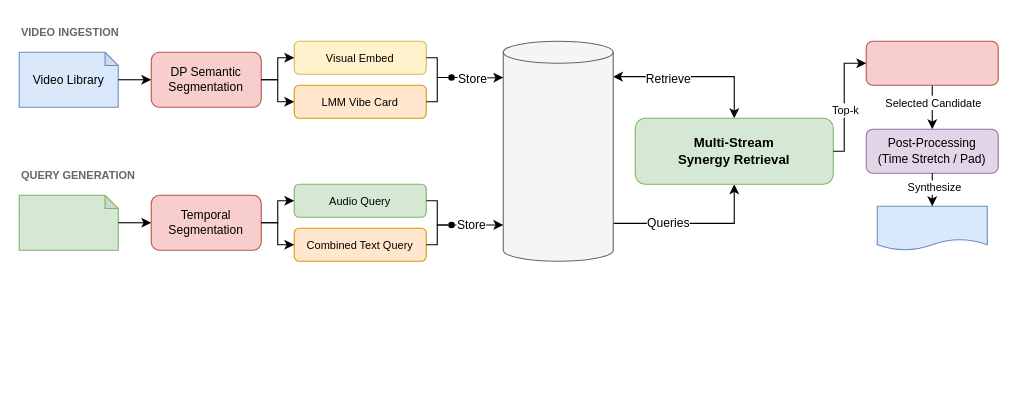
The diagram is 1018 pixels wide and 411 high, and some of its shapes have lost their labels. Each missing label, with the centre of its shape:
Duration-Aware Selection: the point at 931,62
Final Video: the point at 931,227
Input Song: the point at 68,222
Vector Database (Qdrant): the point at 557,150
